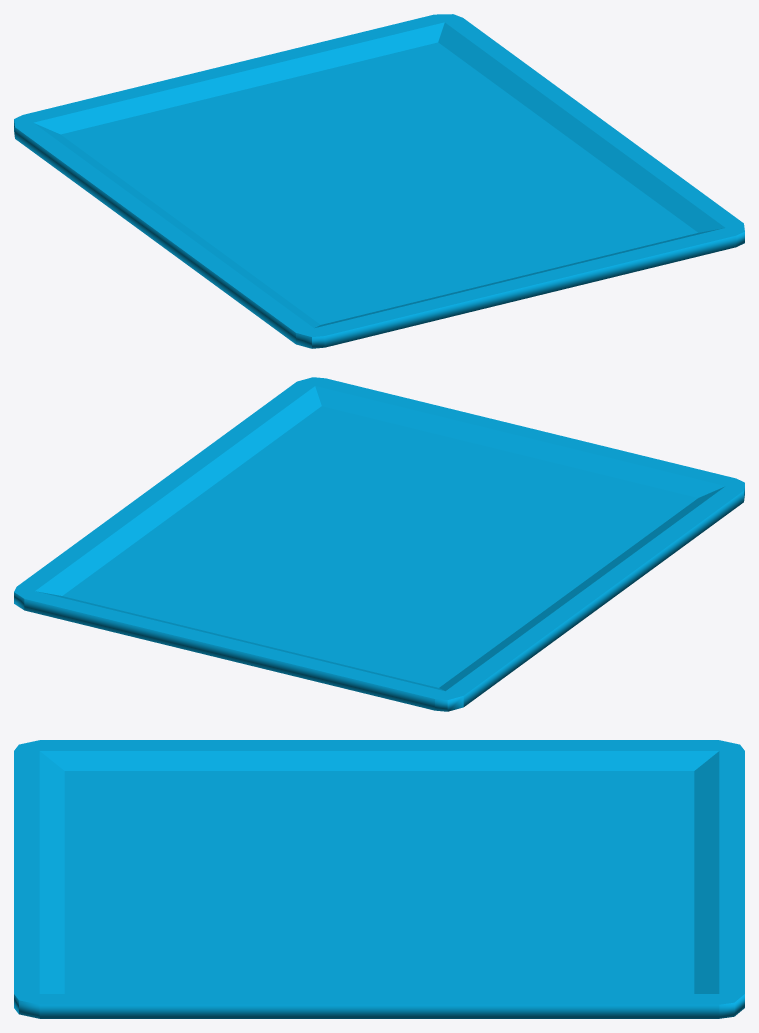
File: Restaurant_Gas_Stove_Tray_Lod1.fbx
The picture shows the model from 3 angles, top to bottom: view 1: azimuth 30°, elevation 25°; view 2: azimuth 150°, elevation 25°; view 3: azimuth 270°, elevation 25°; orthographic projection. The views are drawn at different scales.
Visible parts, largest first — view 1: Restaurant_Gas_Stove_Tray_Lod1; view 2: Restaurant_Gas_Stove_Tray_Lod1; view 3: Restaurant_Gas_Stove_Tray_Lod1.
Boxes of the visible parts, x1,y1,x2,y2 form: Restaurant_Gas_Stove_Tray_Lod1: (14, 14, 744, 348); Restaurant_Gas_Stove_Tray_Lod1: (14, 377, 744, 711); Restaurant_Gas_Stove_Tray_Lod1: (14, 740, 744, 1018).
Size of the model in its own units: 41.55 by 1.03 by 48.51.
